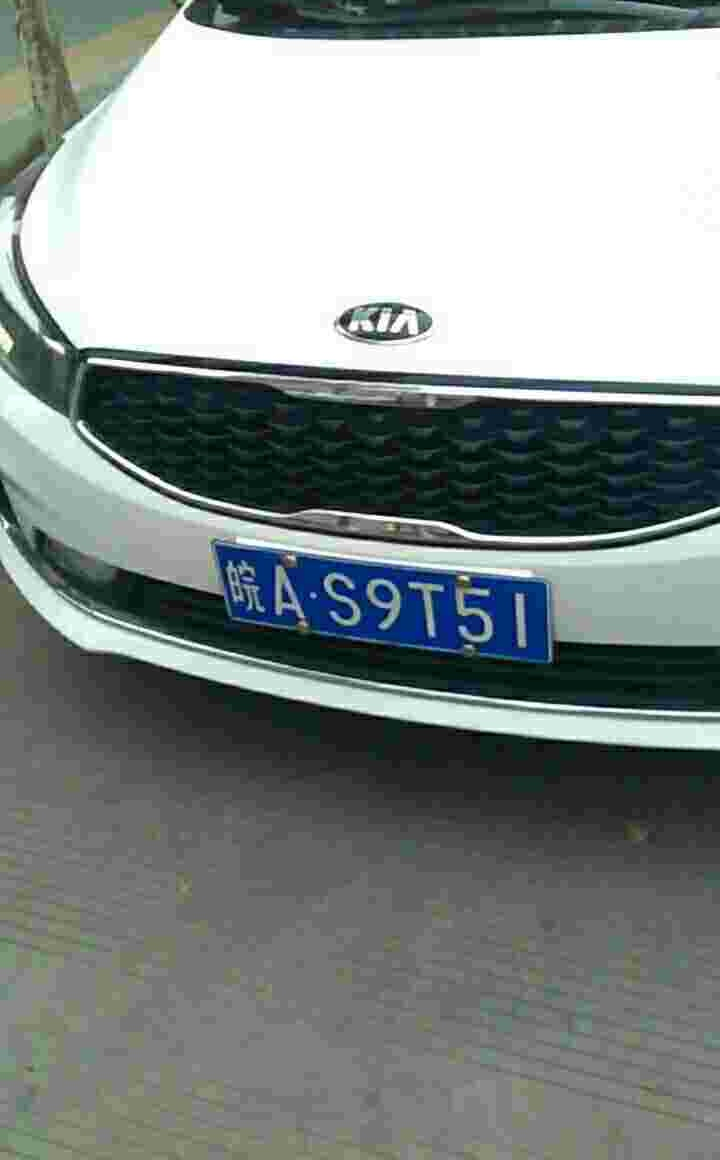license_plate: (206, 540, 563, 665)
